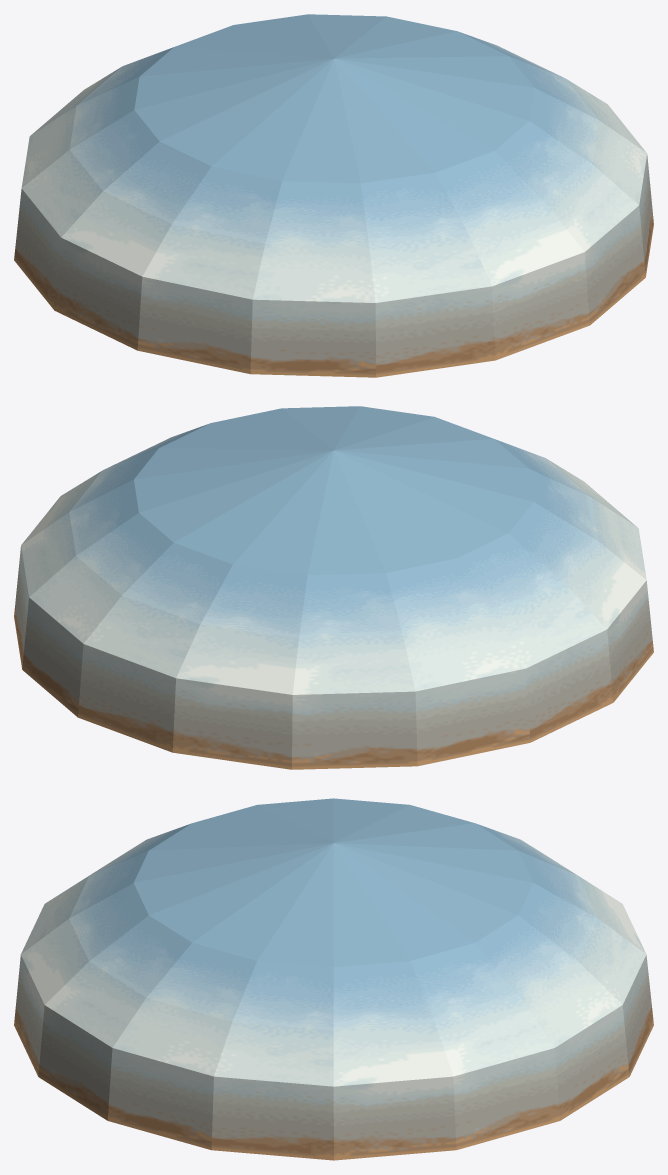
3 renders of one model, top to bottom at view 1: azimuth 30°, elevation 25°; view 2: azimuth 150°, elevation 25°; view 3: azimuth 270°, elevation 25°, orthographic.
Visible parts, largest first — view 1: mesh00; view 2: mesh00; view 3: mesh00.
Part boxes in pixels (bbox=[...]): mesh00: bbox=[14, 14, 653, 377]; mesh00: bbox=[14, 406, 653, 769]; mesh00: bbox=[14, 798, 653, 1160].
Bounding box in the file's own units: 99827 × 31382 × 99827.
Materials: 1 (1 with a texture image).
